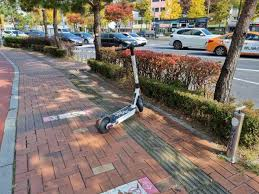guide_blocks: (168, 155, 226, 194), (123, 122, 176, 157), (75, 80, 117, 111), (99, 104, 147, 130)
kick_board: (95, 42, 147, 132)
kick_handler: (115, 44, 146, 54)
kick_neck: (131, 58, 142, 95)
kick_wheel: (97, 116, 111, 134), (137, 98, 143, 112)
